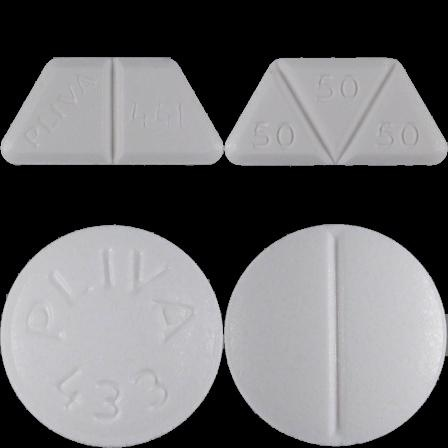24236-127: (0, 0, 224, 224)
